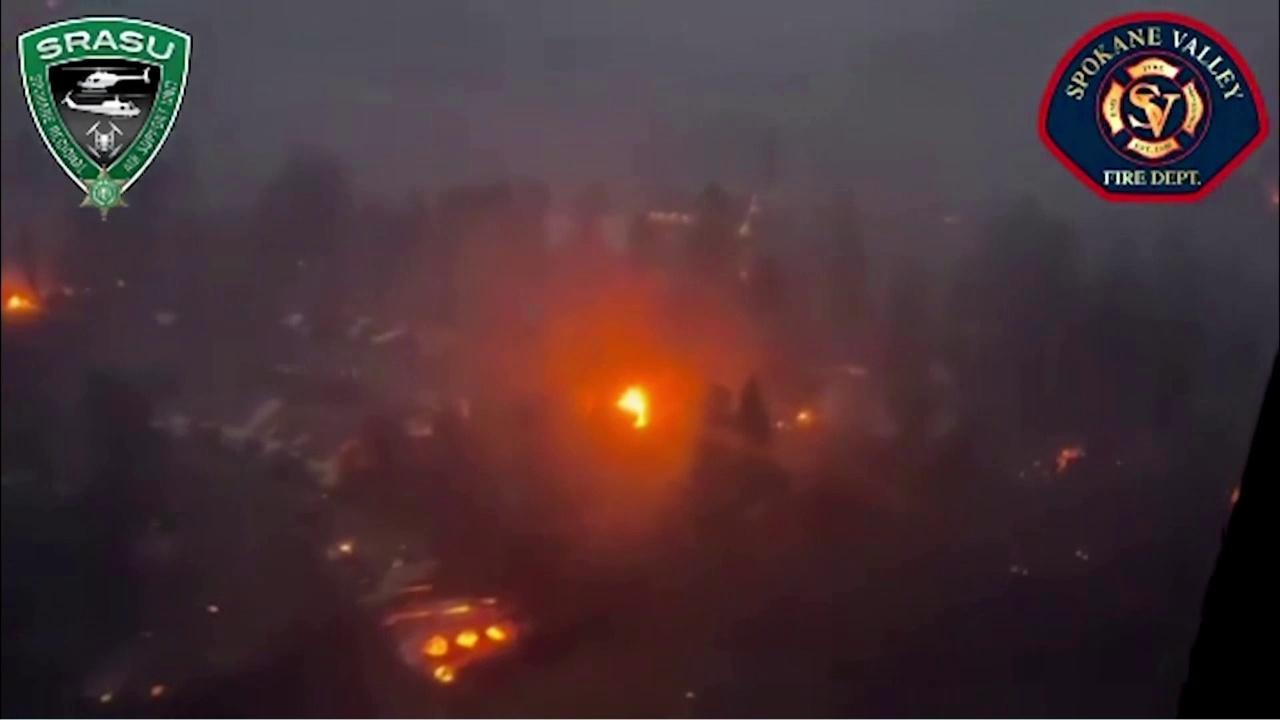fire: (374, 602, 525, 685), (616, 375, 655, 433), (1048, 438, 1086, 476), (4, 291, 47, 314), (325, 537, 358, 559), (790, 405, 813, 426), (148, 683, 168, 699), (1268, 185, 1280, 211)
smoke: (1, 0, 1280, 720)
